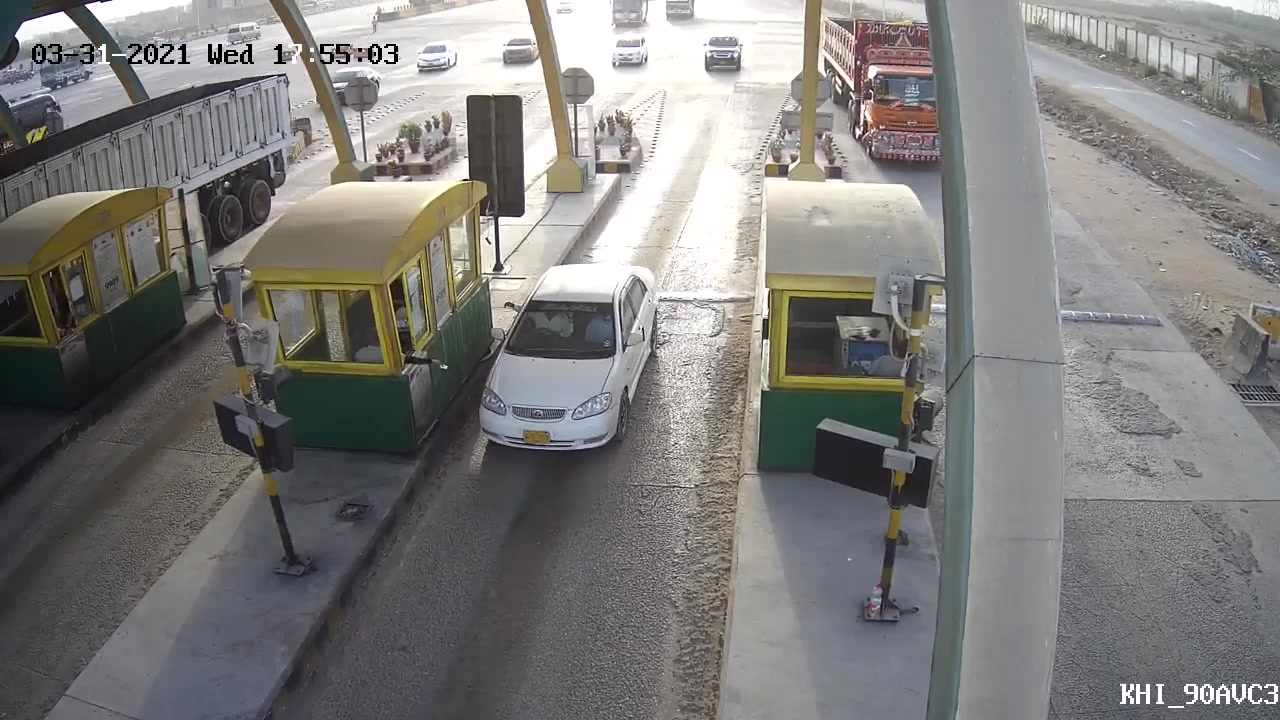F1: (475, 260, 661, 453)
